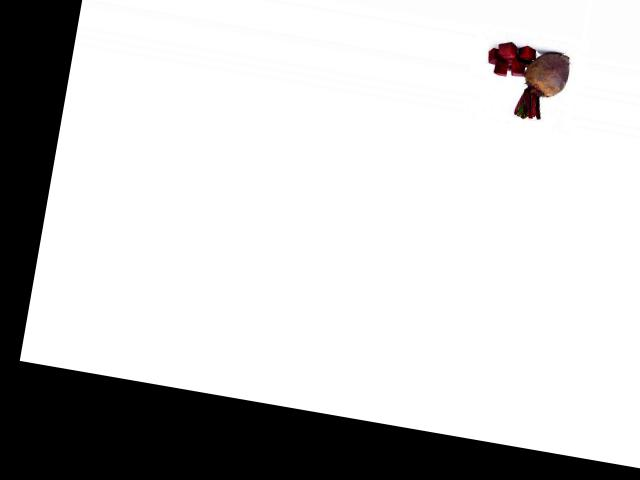beet: (513, 47, 571, 124)
